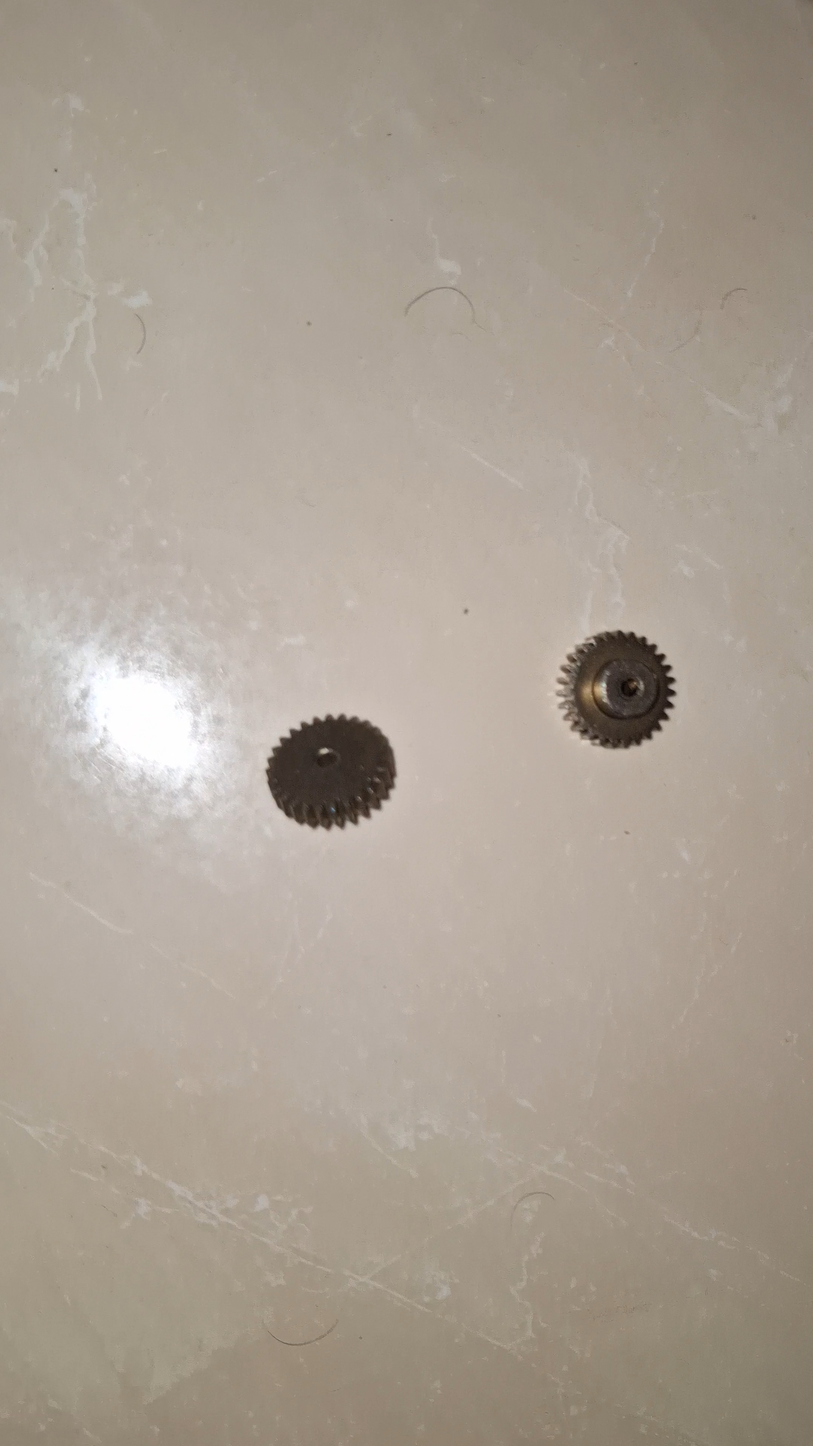spur gear: (267, 715, 395, 828), (559, 632, 674, 747)
